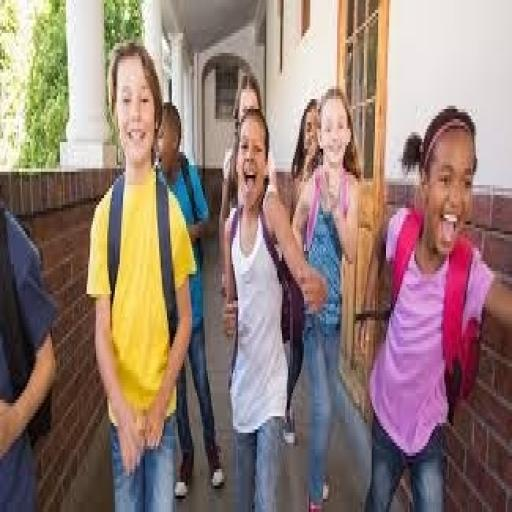running: (360, 102, 510, 509), (85, 36, 199, 509), (221, 102, 329, 509), (290, 82, 364, 508)
